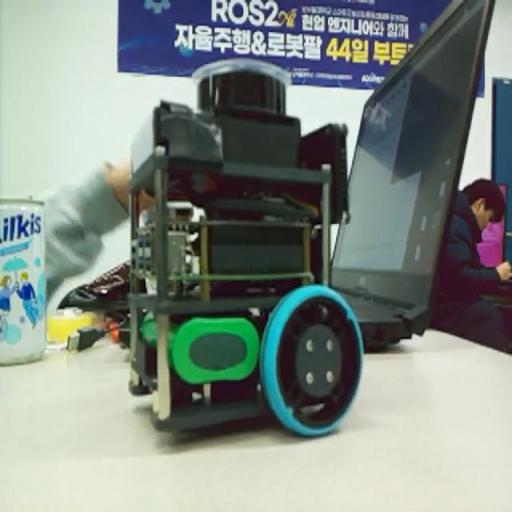pinky_63: (128, 54, 363, 442)
